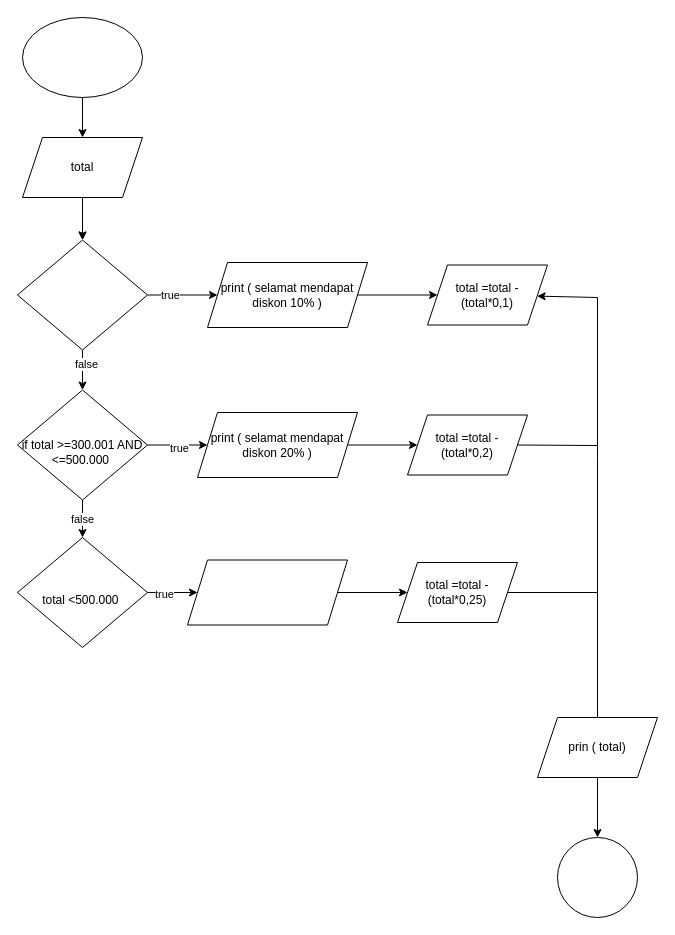
Image size: 675x935. Some labels were removed from this diagram. Here are the shapes that lost their labels. From the top down, the box of each, then its label:
(22, 16, 142, 98): mulai
(16, 239, 148, 350): if total >=100.000 AND <=300.000
(186, 559, 348, 625): print ( selamat mendapat diskon 25% )
(556, 836, 638, 918): selesai
